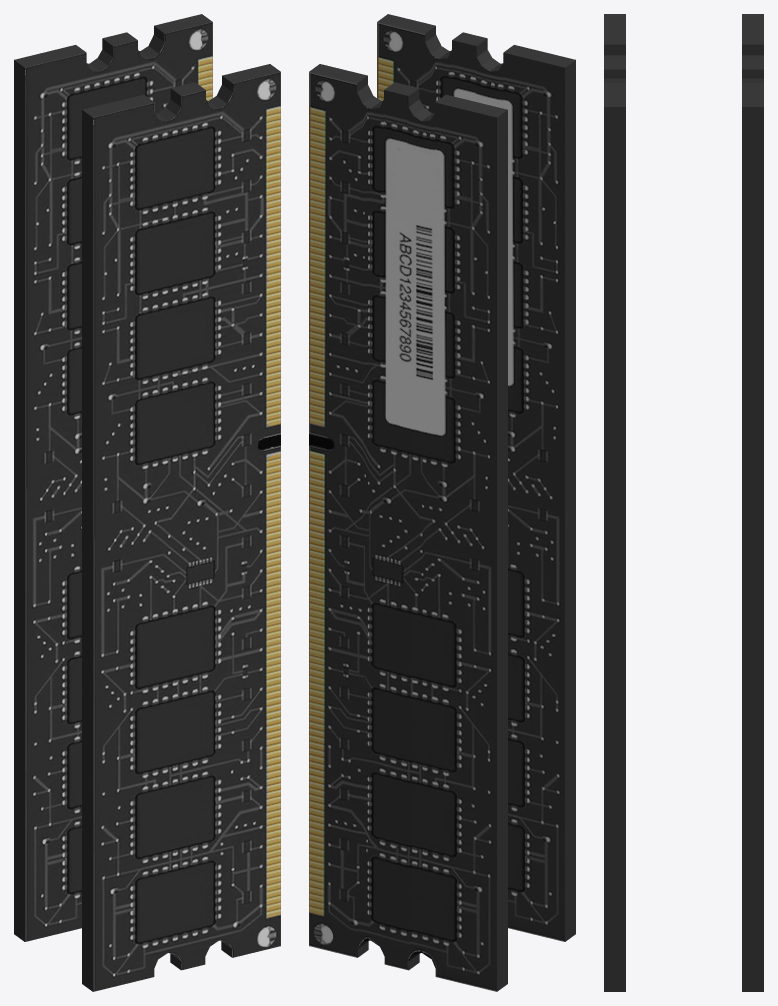
3 views of the same model, side by side, from view 1: azimuth 30°, elevation 25°; view 2: azimuth 150°, elevation 25°; view 3: azimuth 270°, elevation 25° (orthographic).
Parts seen in each view (by area): view 1: ram.001, ram; view 2: ram, ram.001; view 3: ram, ram.001.
Boxes of the visible parts, <box> form: ram.001: <box>82,64,280,991</box>; ram: <box>14,14,212,941</box>; ram: <box>309,64,507,991</box>; ram.001: <box>377,14,575,941</box>; ram: <box>742,14,763,991</box>; ram.001: <box>604,14,625,991</box>.
Bounding box in the file's own units: 0.0827 × 0.3674 × 0.0602.
1 material, 1 textured.
